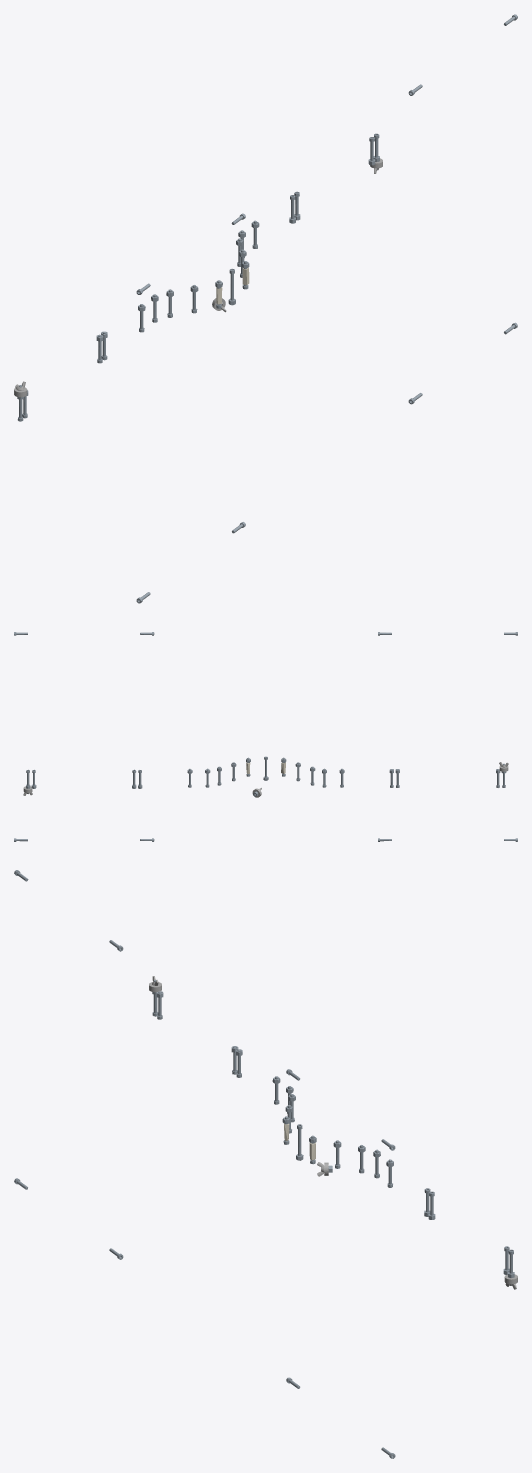
File: other-blue-hive.obj
The picture shows the model from 3 angles, top to bottom: view 1: azimuth 30°, elevation 25°; view 2: azimuth 150°, elevation 25°; view 3: azimuth 270°, elevation 25°; orthographic projection. The views are drawn at different scales.
Parts seen in each view (by area): view 1: other-blue-hive-9AA5AF; view 2: other-blue-hive-9AA5AF; view 3: other-blue-hive-9AA5AF.
Part boxes in pixels (x1,y1,x2,y2): other-blue-hive-9AA5AF: (17, 14, 517, 603); other-blue-hive-9AA5AF: (14, 632, 517, 841); other-blue-hive-9AA5AF: (14, 870, 514, 1458).
Size of the model in its own units: 40.73 by 19.64 by 28.62.
